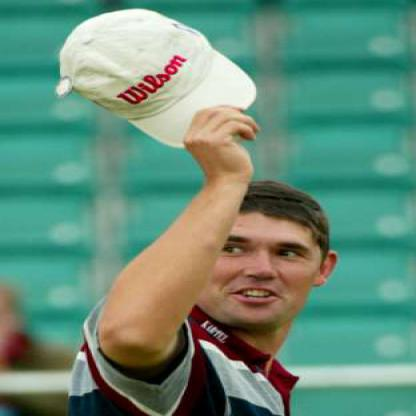face: (206, 195, 327, 329)
